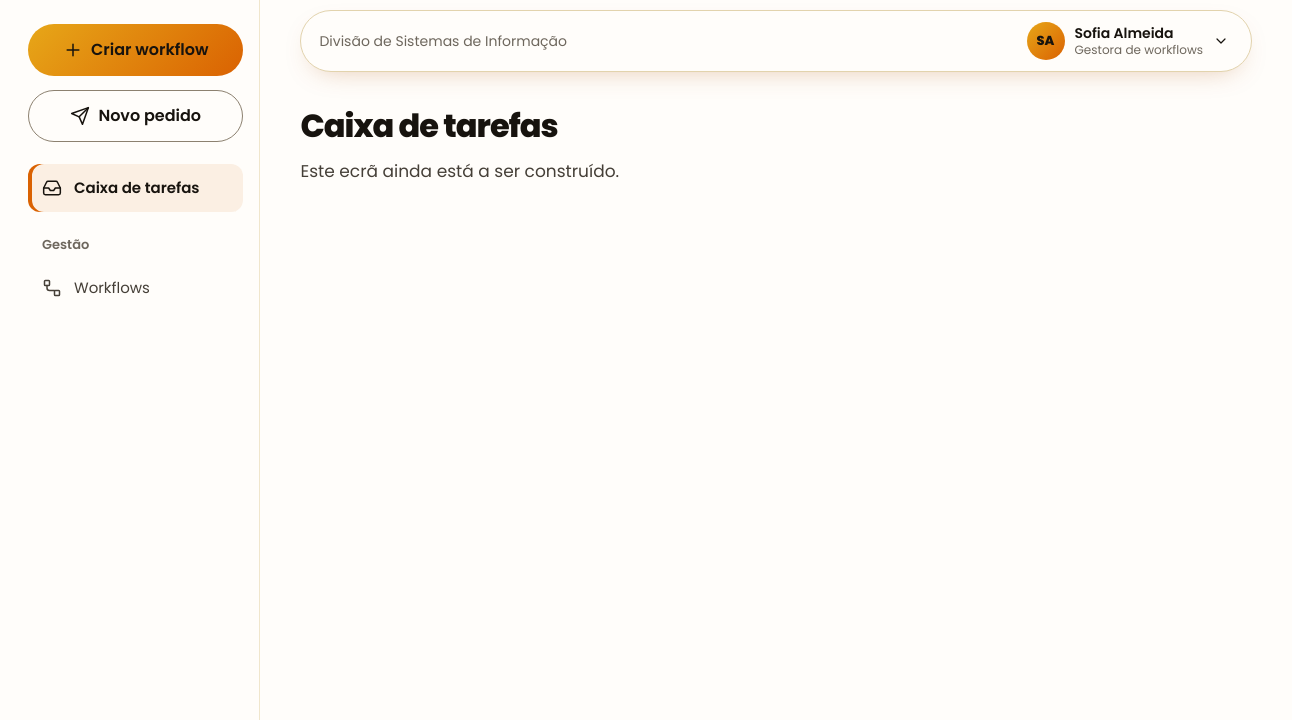
Test case: App › opens «Criar workflow» full screen, one question at a time, on a new draft
This screenshot has width=1292, height=720.
Click the link "Criar workflow".
click(136, 50)  # box [28,24,244,76]
(page scrolled)
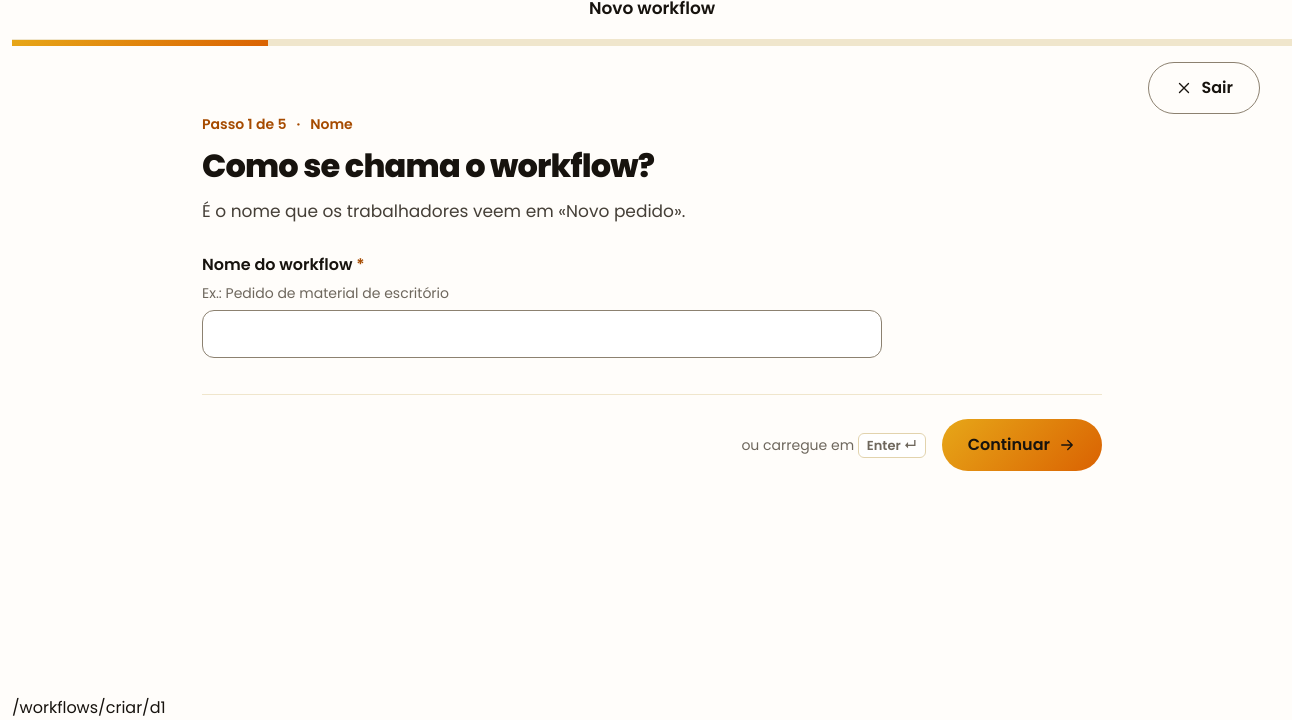
Check: the heading "Como se chama o workflow?" is shown, box [201,142,654,188]
Check: the text with test id "address" reads "/workflows/criar/d1", box [12,696,166,719]
